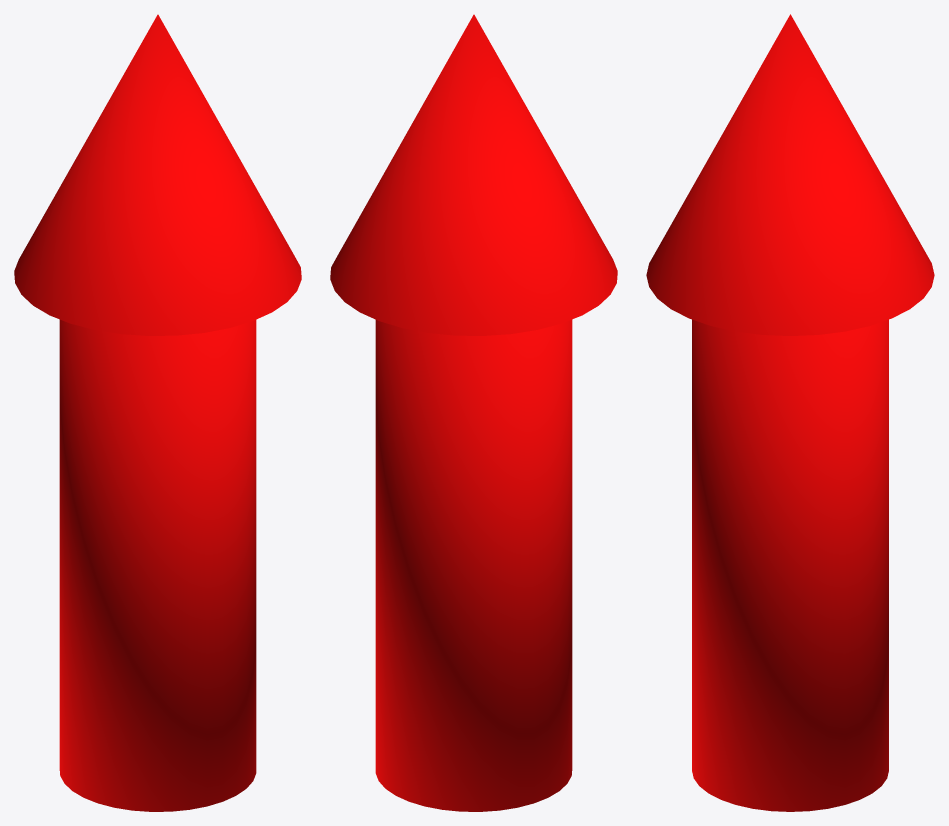
The model's file is rocket.gltf.
The picture shows the model from 3 angles, left to right: view 1: azimuth 30°, elevation 25°; view 2: azimuth 150°, elevation 25°; view 3: azimuth 270°, elevation 25°; orthographic projection.
Visible parts, largest first — view 1: Cylinder, Cone; view 2: Cylinder, Cone; view 3: Cylinder, Cone.
Part boxes in pixels (box(x1,y1,x2,y2)): Cylinder: box(59, 319, 256, 811); Cone: box(14, 14, 301, 335); Cylinder: box(375, 319, 572, 811); Cone: box(330, 14, 617, 335); Cylinder: box(692, 319, 888, 811); Cone: box(646, 14, 934, 335).
Bounding box in the file's own units: 2.92 × 8.46 × 2.92.
